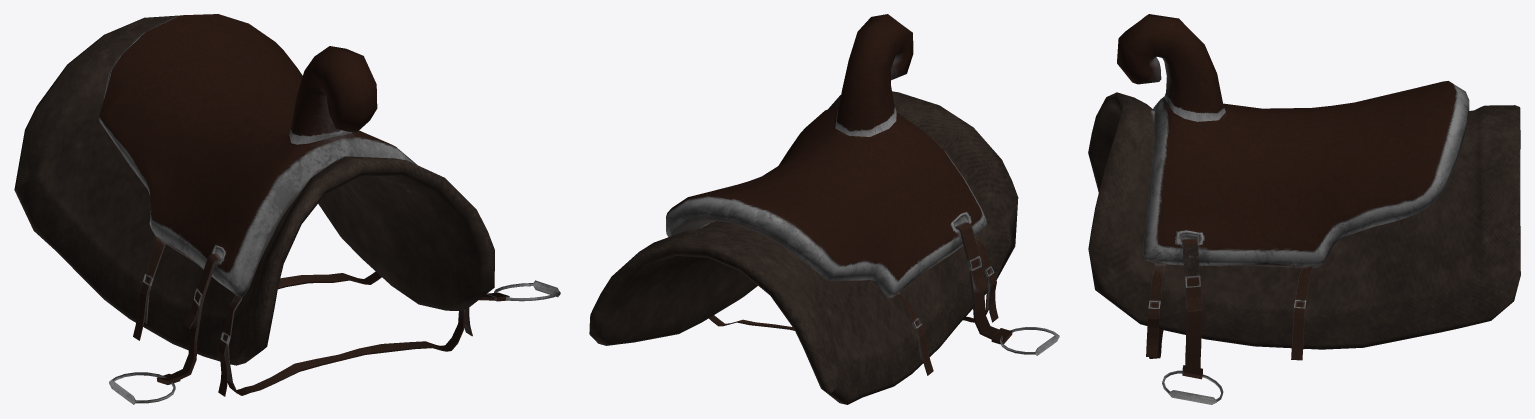
File: sedlo.fbx
The picture shows the model from 3 angles, left to right: view 1: azimuth 30°, elevation 25°; view 2: azimuth 150°, elevation 25°; view 3: azimuth 270°, elevation 25°; orthographic projection. The views are drawn at different scales.
Visible parts, largest first — view 1: sedlo_shape; view 2: sedlo_shape; view 3: sedlo_shape.
Boxes of the visible parts, left/top/right/bottom form: sedlo_shape: left=14, top=14, right=560, bottom=404; sedlo_shape: left=589, top=14, right=1059, bottom=404; sedlo_shape: left=1088, top=14, right=1520, bottom=404.
Size of the model in its own units: 11.07 by 7.99 by 10.58.
Materials: 1 (1 with a texture image).
